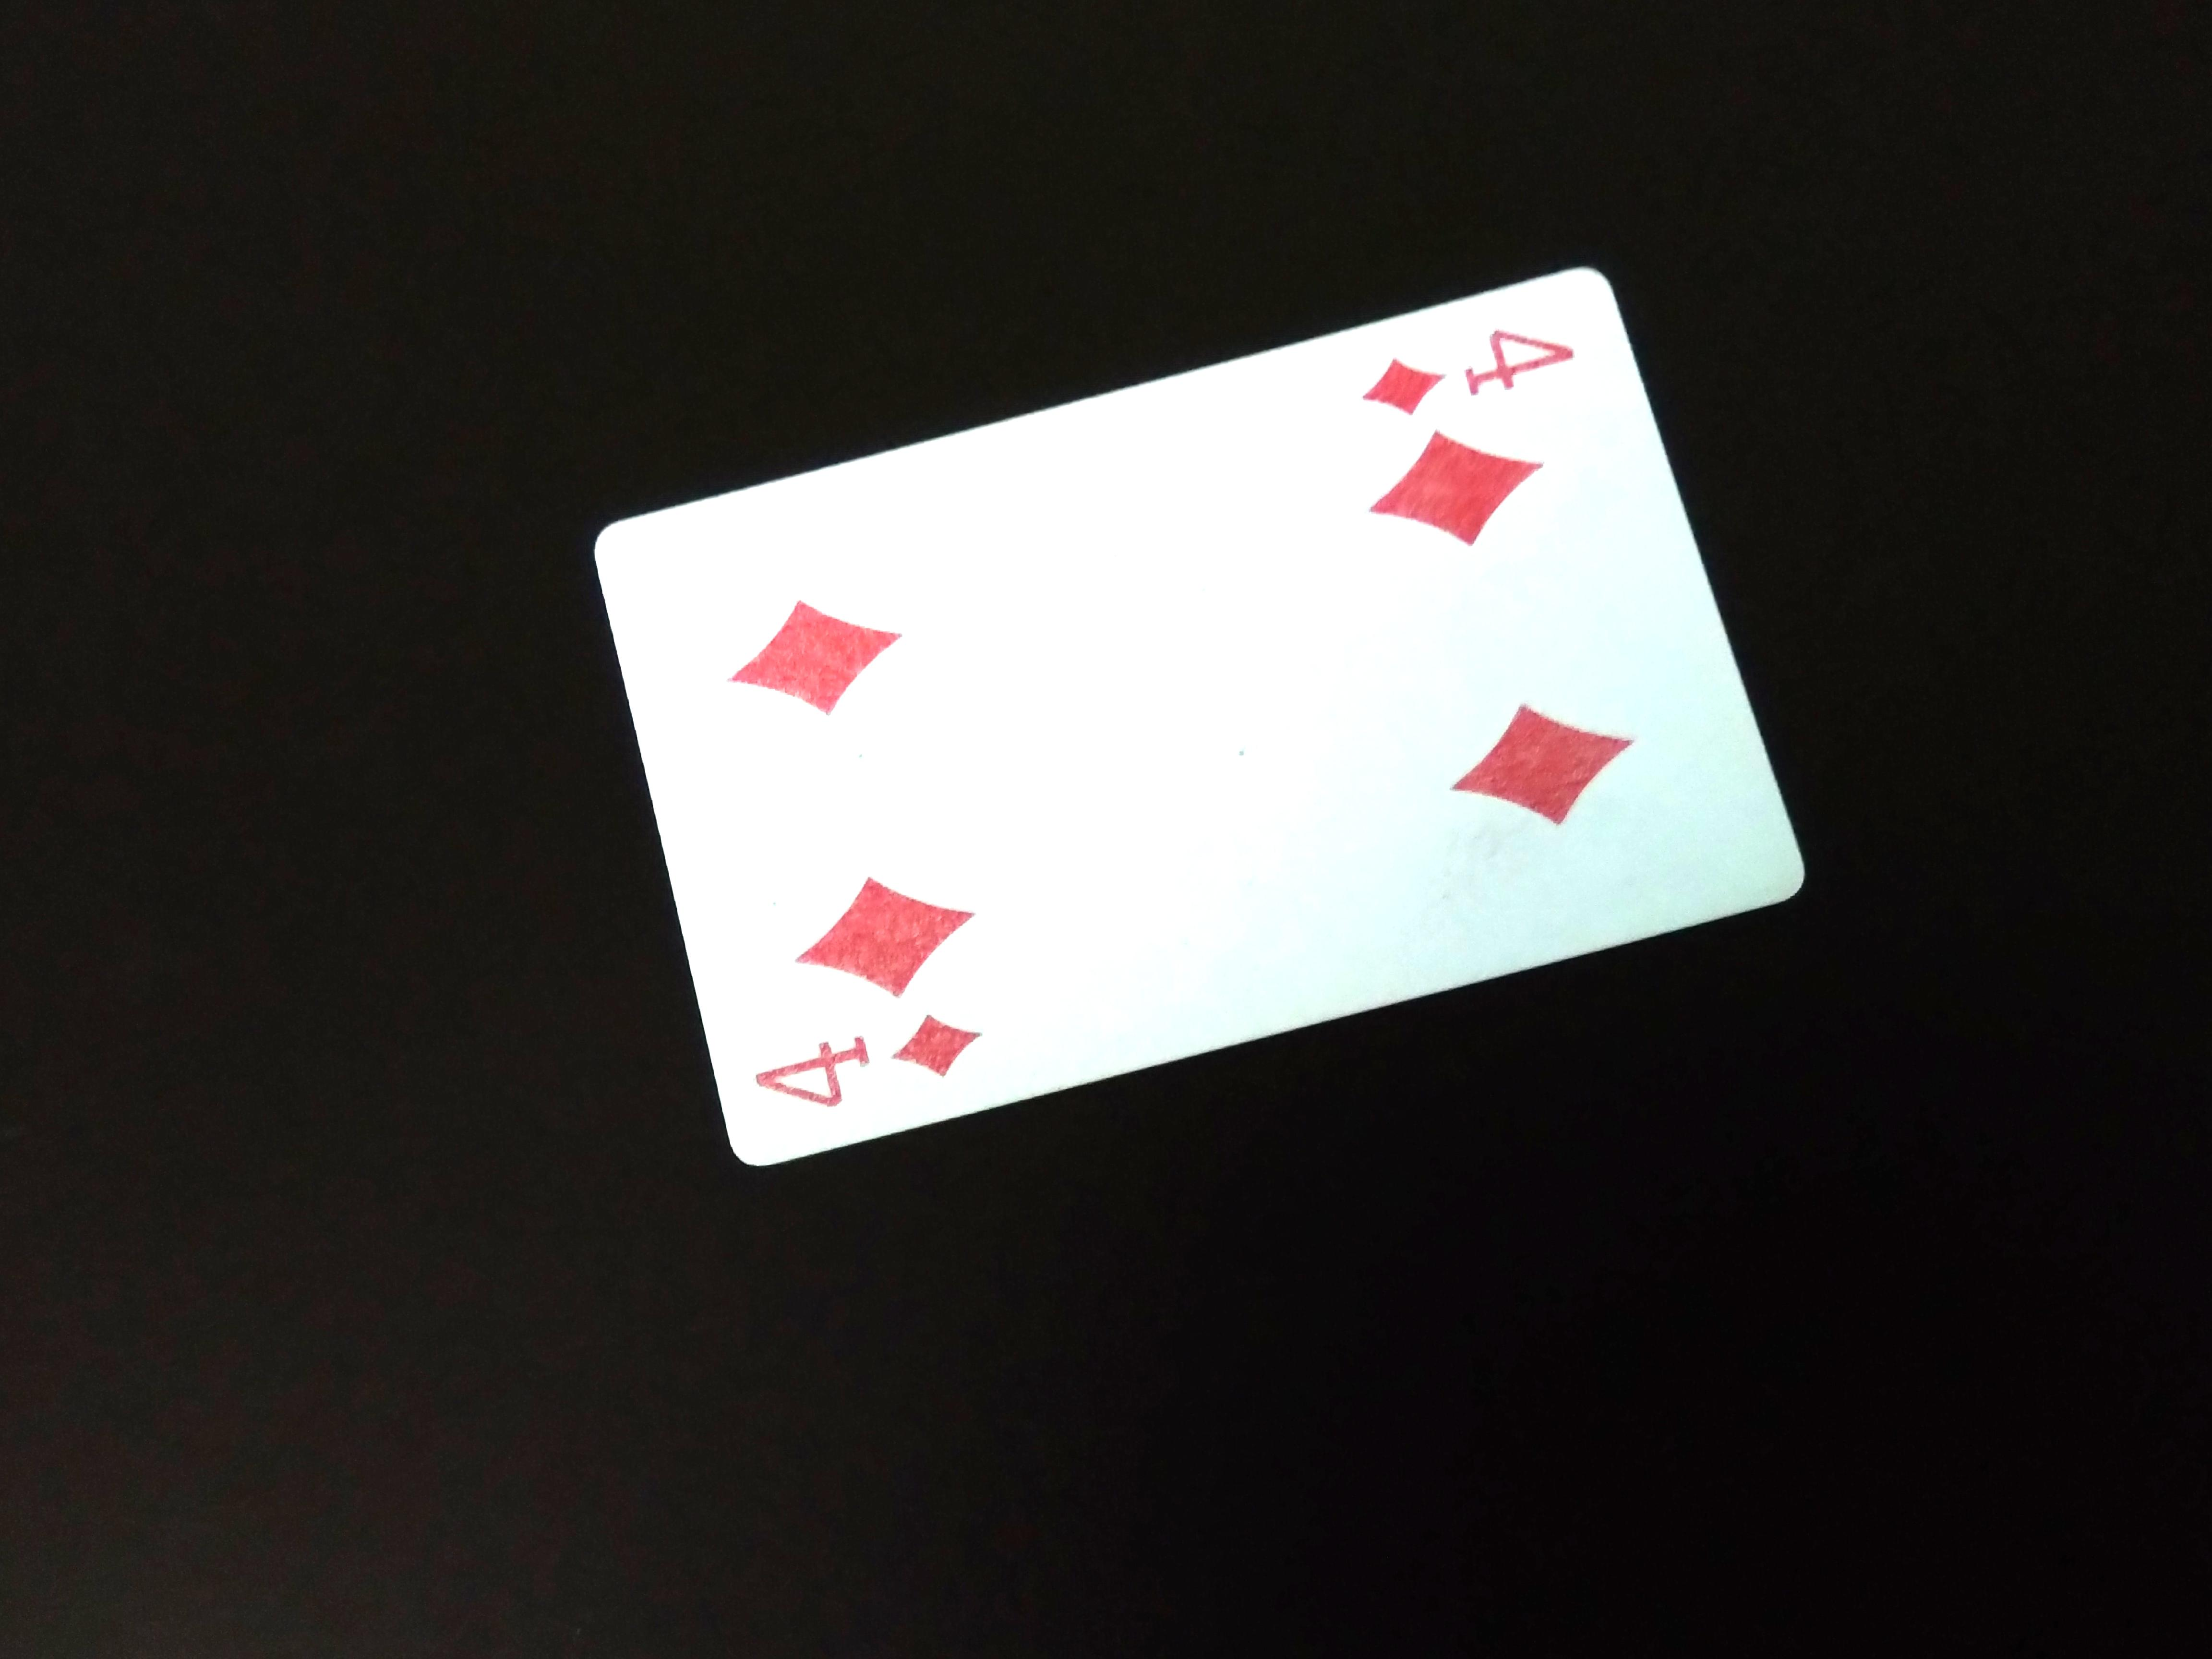4D: (716, 1016, 1035, 1101)
